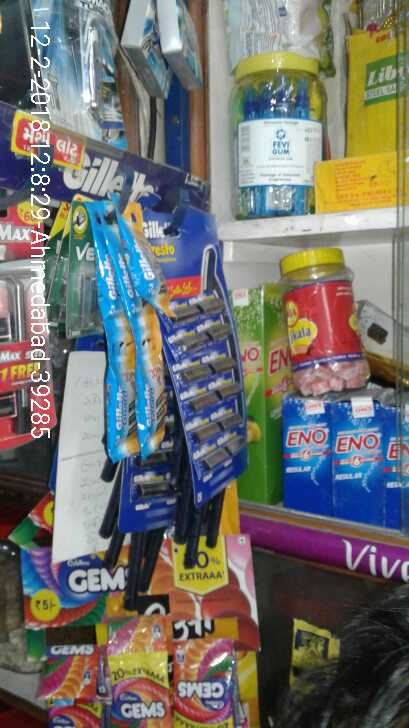gillete: (163, 321, 254, 511), (125, 469, 182, 609), (133, 318, 171, 456), (110, 198, 161, 297), (105, 337, 140, 461)
